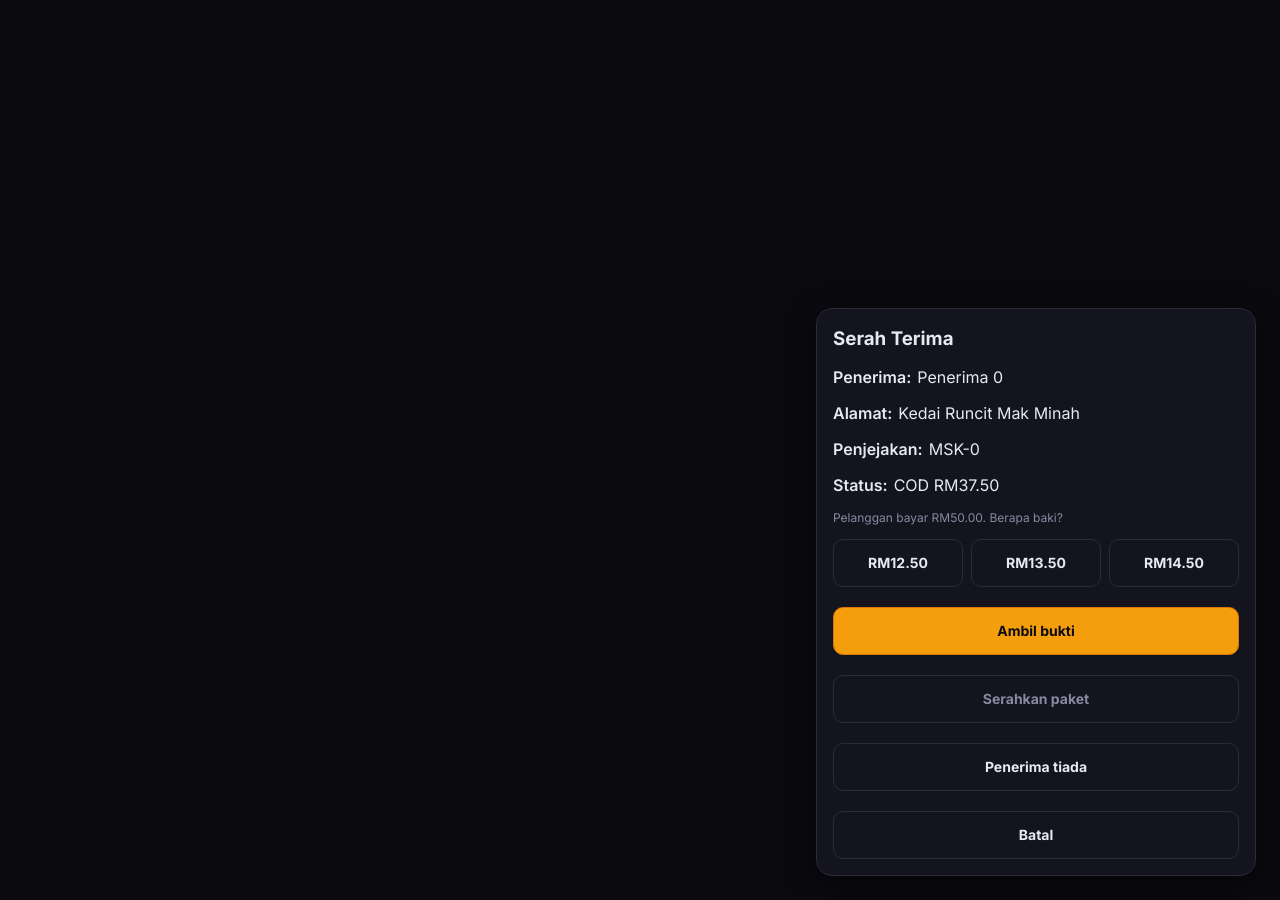
Scenario: HandoverPanel — mesej baki salah dalam panel › baki betul selepas salah → mesej salah hilang, nota 'COD diterima' kekal
This screenshot has width=1280, height=900.
Click the button "RM13.50" at coordinates (1036, 563), box [971, 539, 1101, 587]
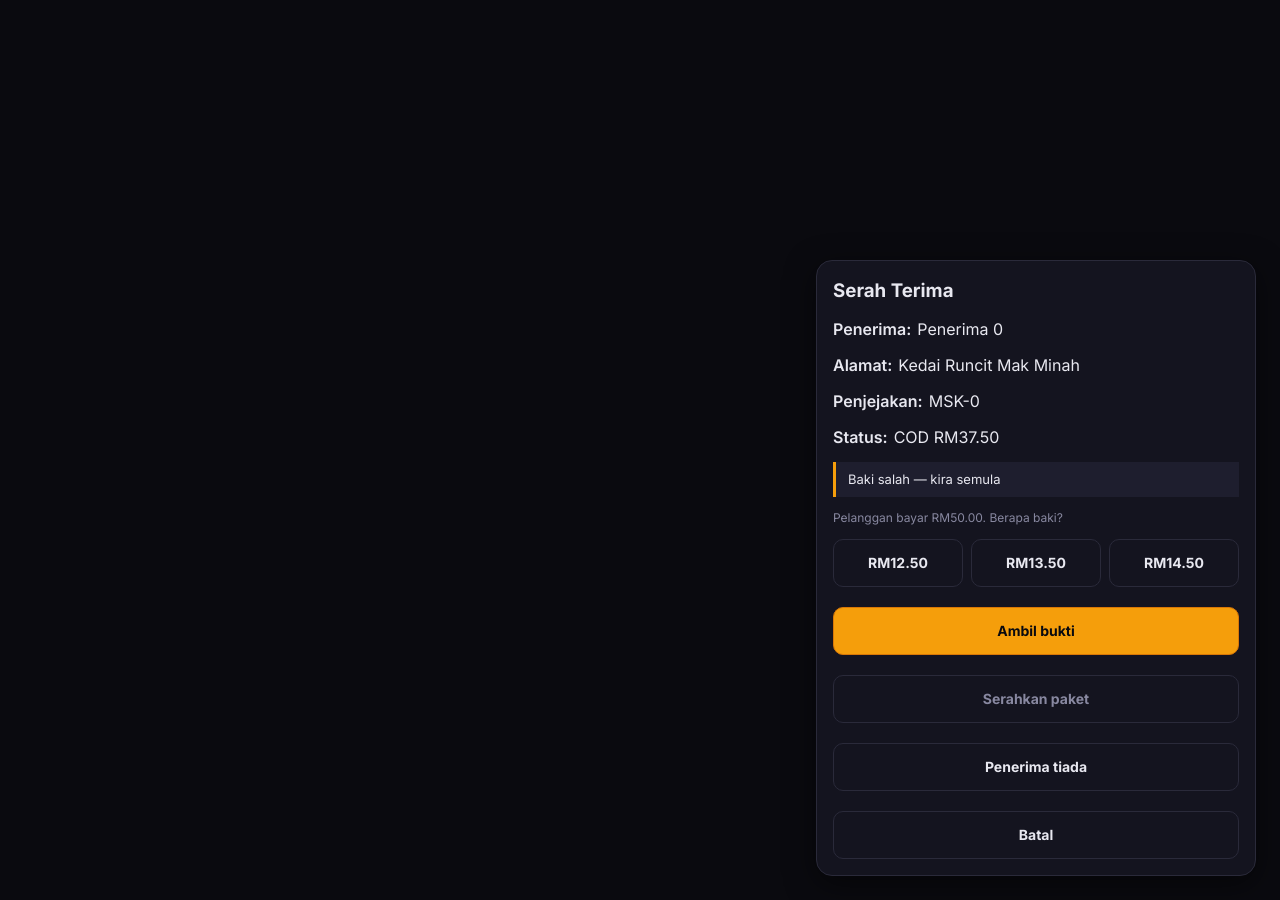
Click the button "RM12.50" at coordinates (898, 563), box [833, 539, 963, 587]
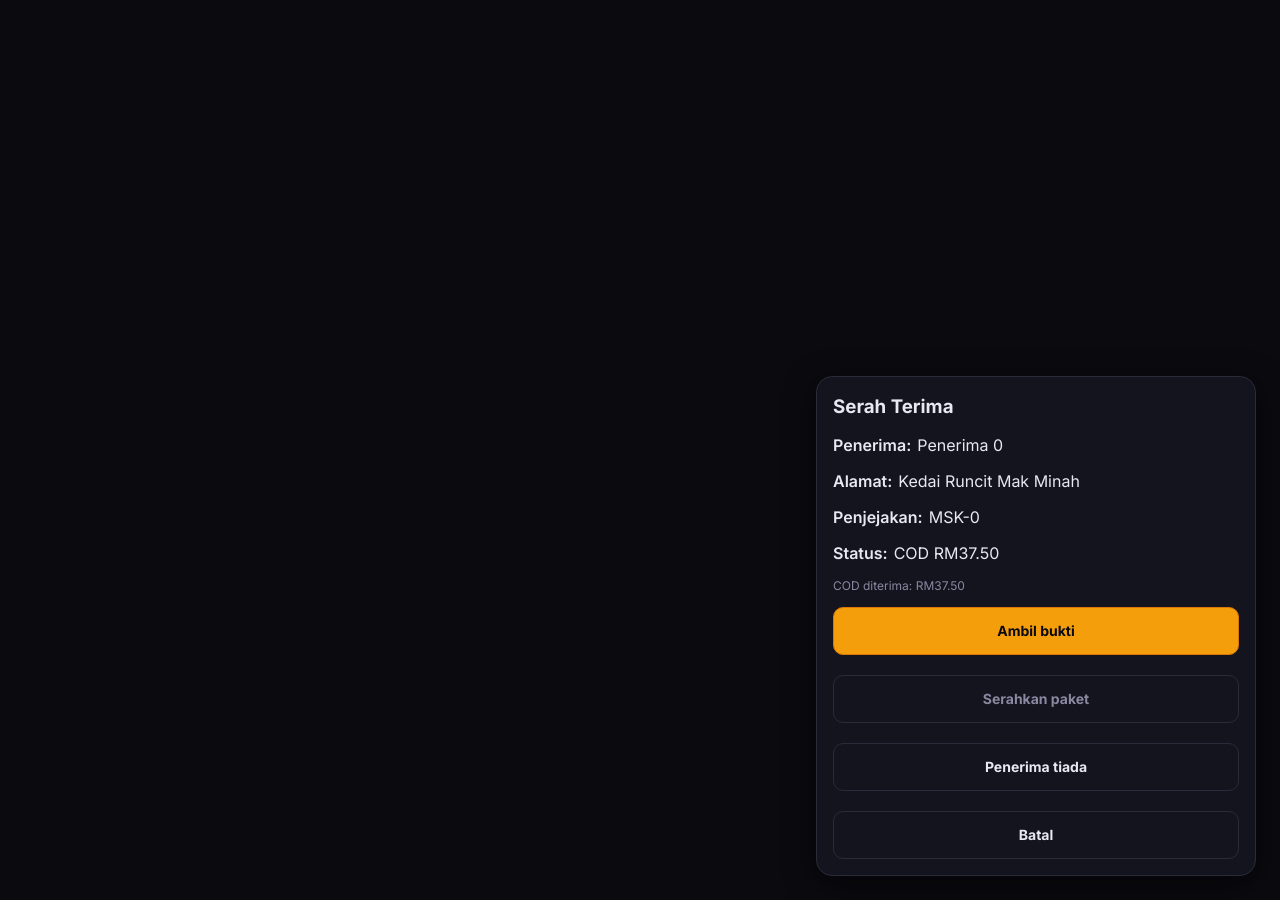
Expected: the text "COD diterima" is shown, [833, 578, 916, 593]
